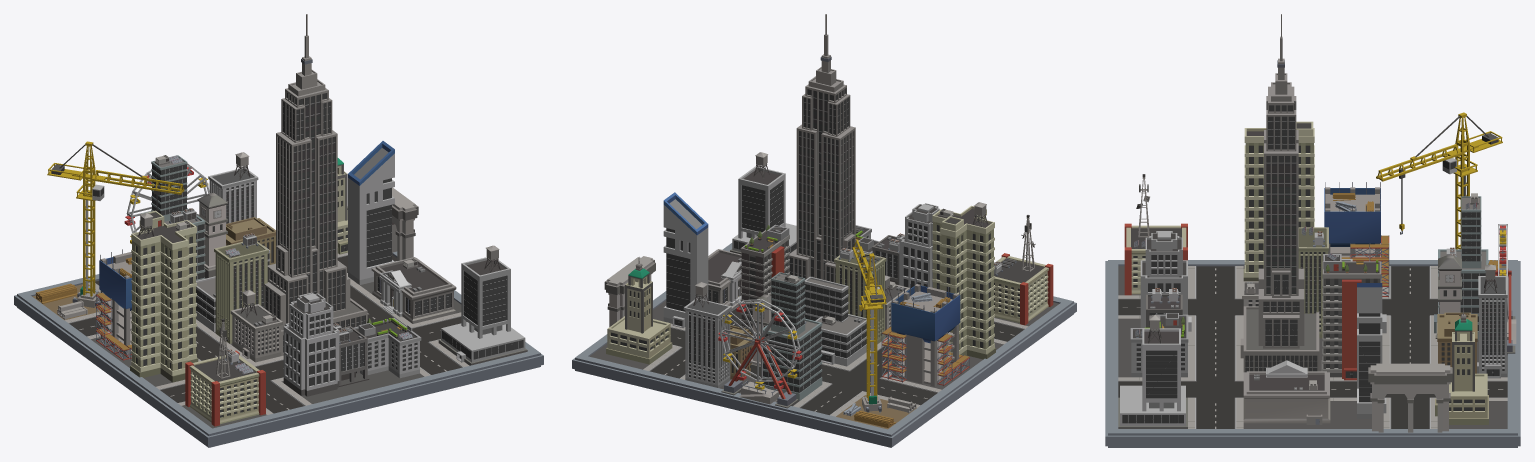
File: city_c.glb
The picture shows the model from 3 angles, left to right: view 1: azimuth 30°, elevation 25°; view 2: azimuth 150°, elevation 25°; view 3: azimuth 270°, elevation 25°; orthographic projection. The views are drawn at different scales.
Visible parts, largest first — view 1: Object_2; view 2: Object_2; view 3: Object_2.
Boxes of the visible parts, box(x1,y1,x2,y2) form: Object_2: box(14, 14, 543, 447); Object_2: box(572, 14, 1076, 447); Object_2: box(1105, 14, 1520, 447).
Bounding box in the file's own units: 149 × 140 × 149.
1 material, 1 textured.
